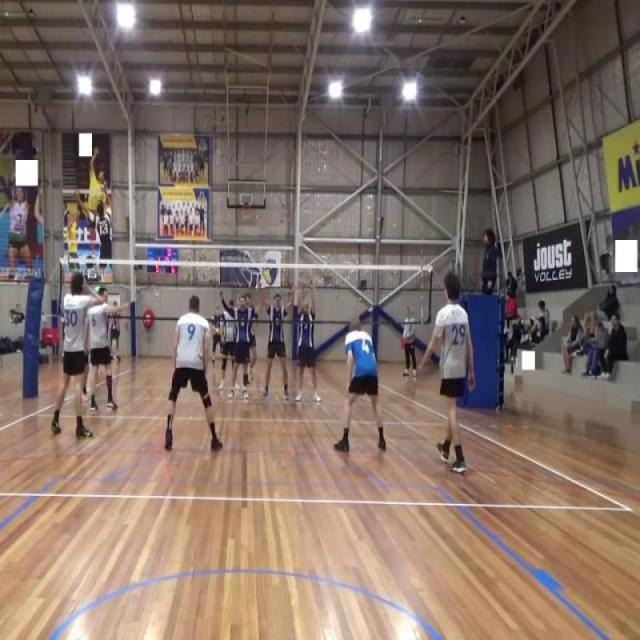volleyball: (214, 328, 221, 337)
